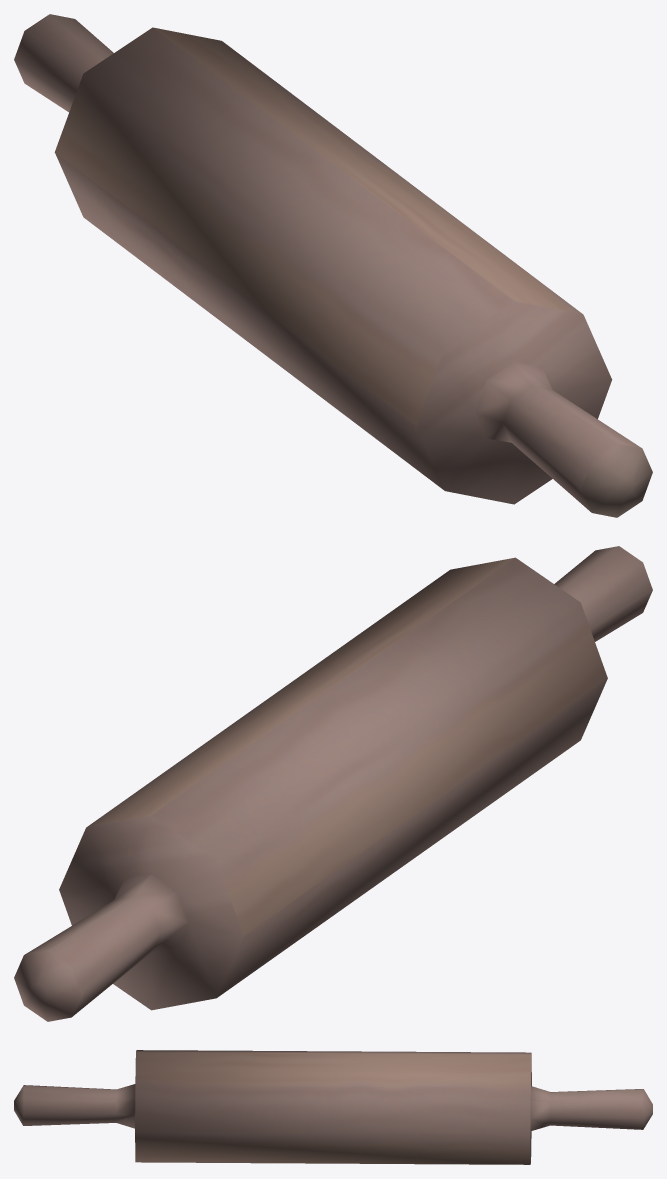
The model's file is Bakery_RollingPin_01.fbx.
3 views of the same model, one above another, from view 1: azimuth 30°, elevation 25°; view 2: azimuth 150°, elevation 25°; view 3: azimuth 270°, elevation 25° (orthographic). The views are drawn at different scales.
Parts seen in each view (by area): view 1: Bakery_RollingPin_01; view 2: Bakery_RollingPin_01; view 3: Bakery_RollingPin_01.
Boxes of the visible parts, x1,y1,x2,y2 form: Bakery_RollingPin_01: [14, 14, 652, 517]; Bakery_RollingPin_01: [14, 546, 652, 1021]; Bakery_RollingPin_01: [14, 1050, 652, 1164].
Size of the model in its own units: 19.75 by 18.85 by 101.
